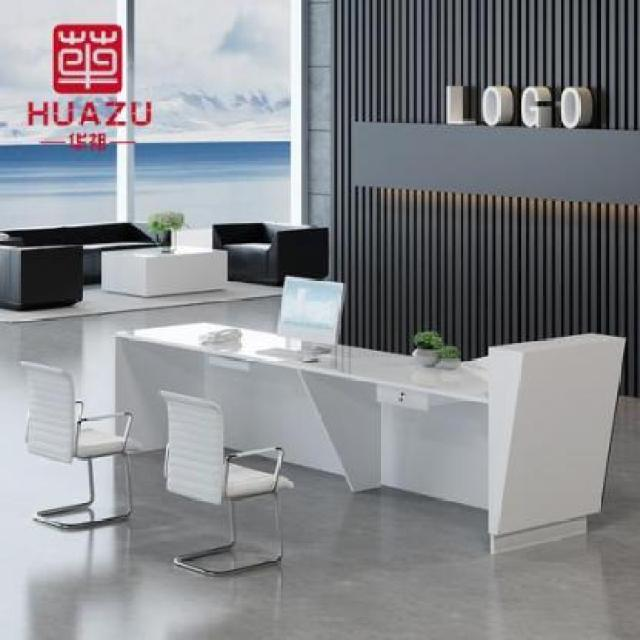frontdesk: (103, 303, 634, 565)
